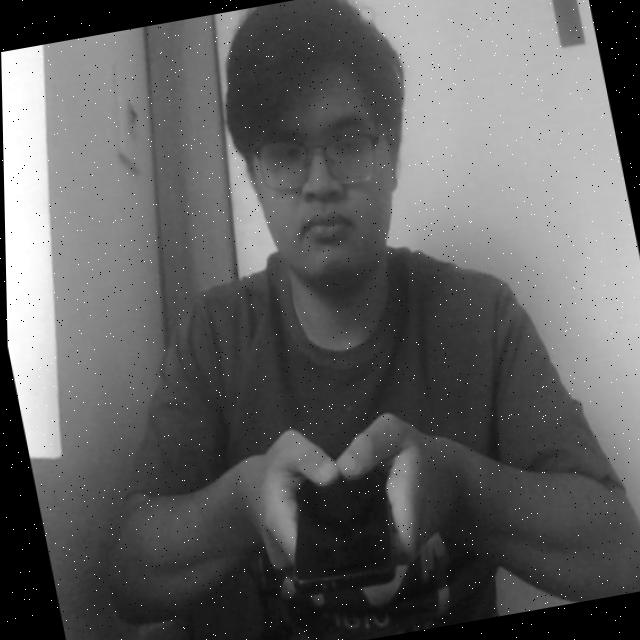phone: (244, 415, 427, 616)
